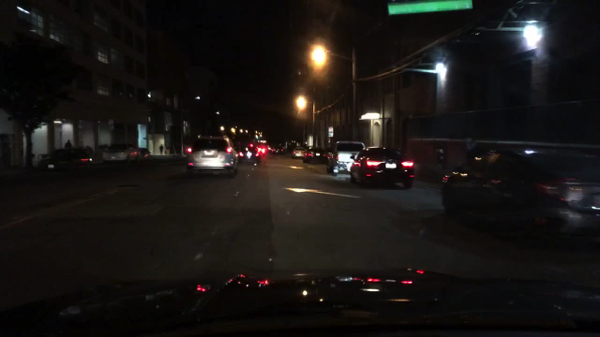car: (440, 147, 599, 241), (349, 146, 414, 188), (184, 134, 240, 177), (39, 147, 93, 174), (325, 140, 365, 176), (103, 142, 139, 164), (238, 145, 262, 163), (301, 147, 325, 164), (139, 147, 151, 161), (292, 147, 306, 159), (258, 145, 268, 156), (272, 148, 283, 154)
person: (65, 139, 73, 147), (160, 144, 163, 154)
traffic sign: (388, 1, 472, 14), (328, 126, 333, 137)
